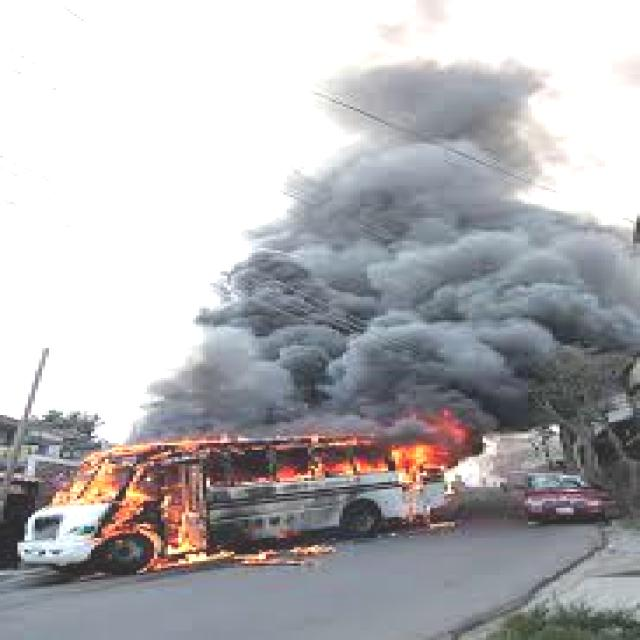fire: (42, 431, 280, 582), (301, 396, 479, 534)
